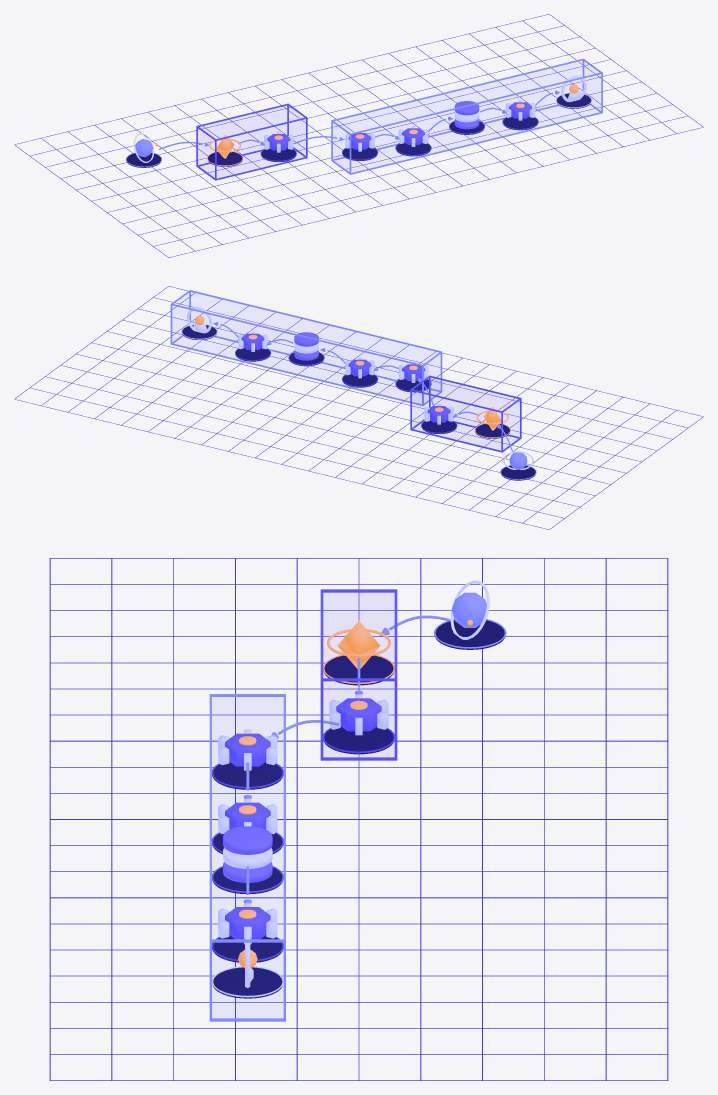
Rendered from jenkins.glb.
The picture shows the model from 3 angles, top to bottom: view 1: azimuth 30°, elevation 25°; view 2: azimuth 150°, elevation 25°; view 3: azimuth 270°, elevation 25°; orthographic projection. The views are drawn at different scales.
Visible parts, largest first — view 1: floor, group_Pipeline_stages, group_Jenkins; view 2: floor, group_Pipeline_stages, group_Jenkins; view 3: floor, group_Pipeline_stages, group_Jenkins, mesh_smoke_pad, mesh_agent_pad, mesh_scm_pad, mesh_build_pad, mesh_controller_pad, mesh_registry_disc2, mesh_deploy_pad, mesh_agent_hex, mesh_build_hex (+4 smaller).
Boxes of the visible parts, box(x1,y1,x2,y2) form: floor: box(14, 14, 703, 257); group_Pipeline_stages: box(331, 58, 602, 174); group_Jenkins: box(196, 103, 307, 180); floor: box(14, 286, 703, 529); group_Pipeline_stages: box(170, 290, 442, 405); group_Jenkins: box(410, 375, 521, 452); floor: box(49, 558, 668, 1080); group_Pipeline_stages: box(209, 694, 285, 1021); group_Jenkins: box(320, 589, 397, 760); mesh_smoke_pad: box(213, 967, 282, 998); mesh_agent_pad: box(324, 726, 393, 754); mesh_scm_pad: box(435, 620, 504, 649); mesh_build_pad: box(213, 762, 282, 789); mesh_controller_pad: box(324, 655, 393, 685); mesh_registry_disc2: box(223, 826, 272, 854); mesh_deploy_pad: box(213, 935, 282, 962); mesh_agent_hex: box(336, 698, 381, 731); mesh_build_hex: box(225, 733, 270, 766).
Bounding box in the file's own units: 40.03 × 2.91 × 20.03.
